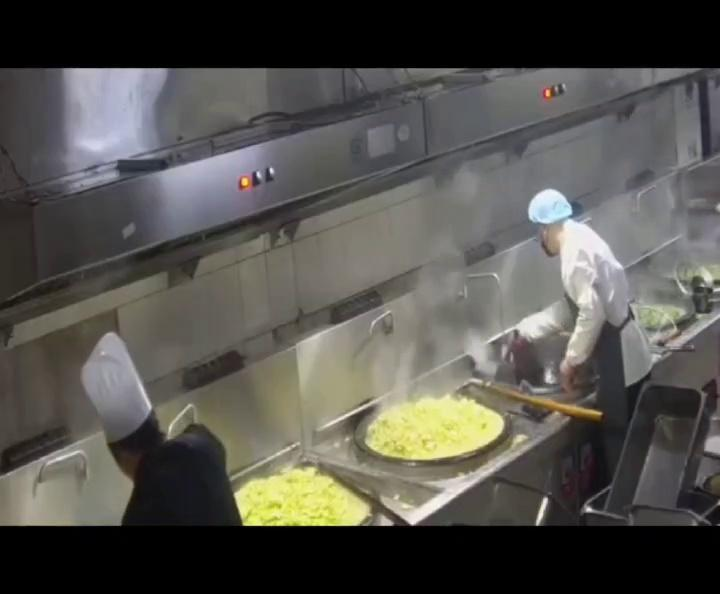gloves: (527, 189, 573, 225)
